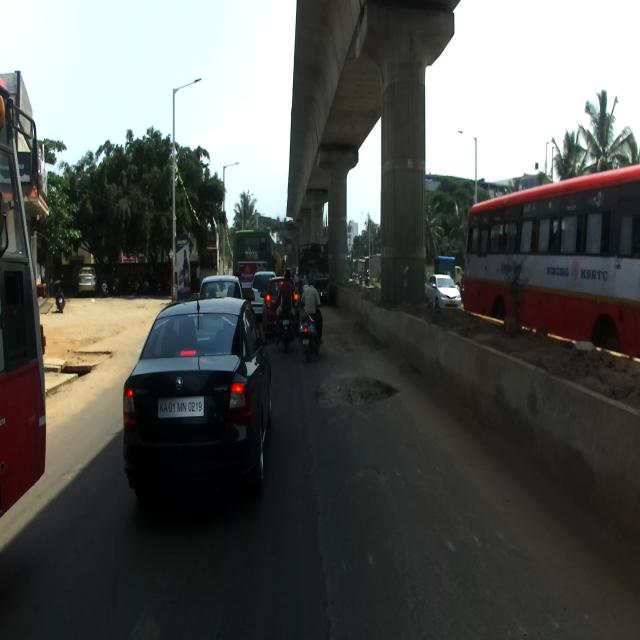car ahead at: (124, 305, 271, 498)
